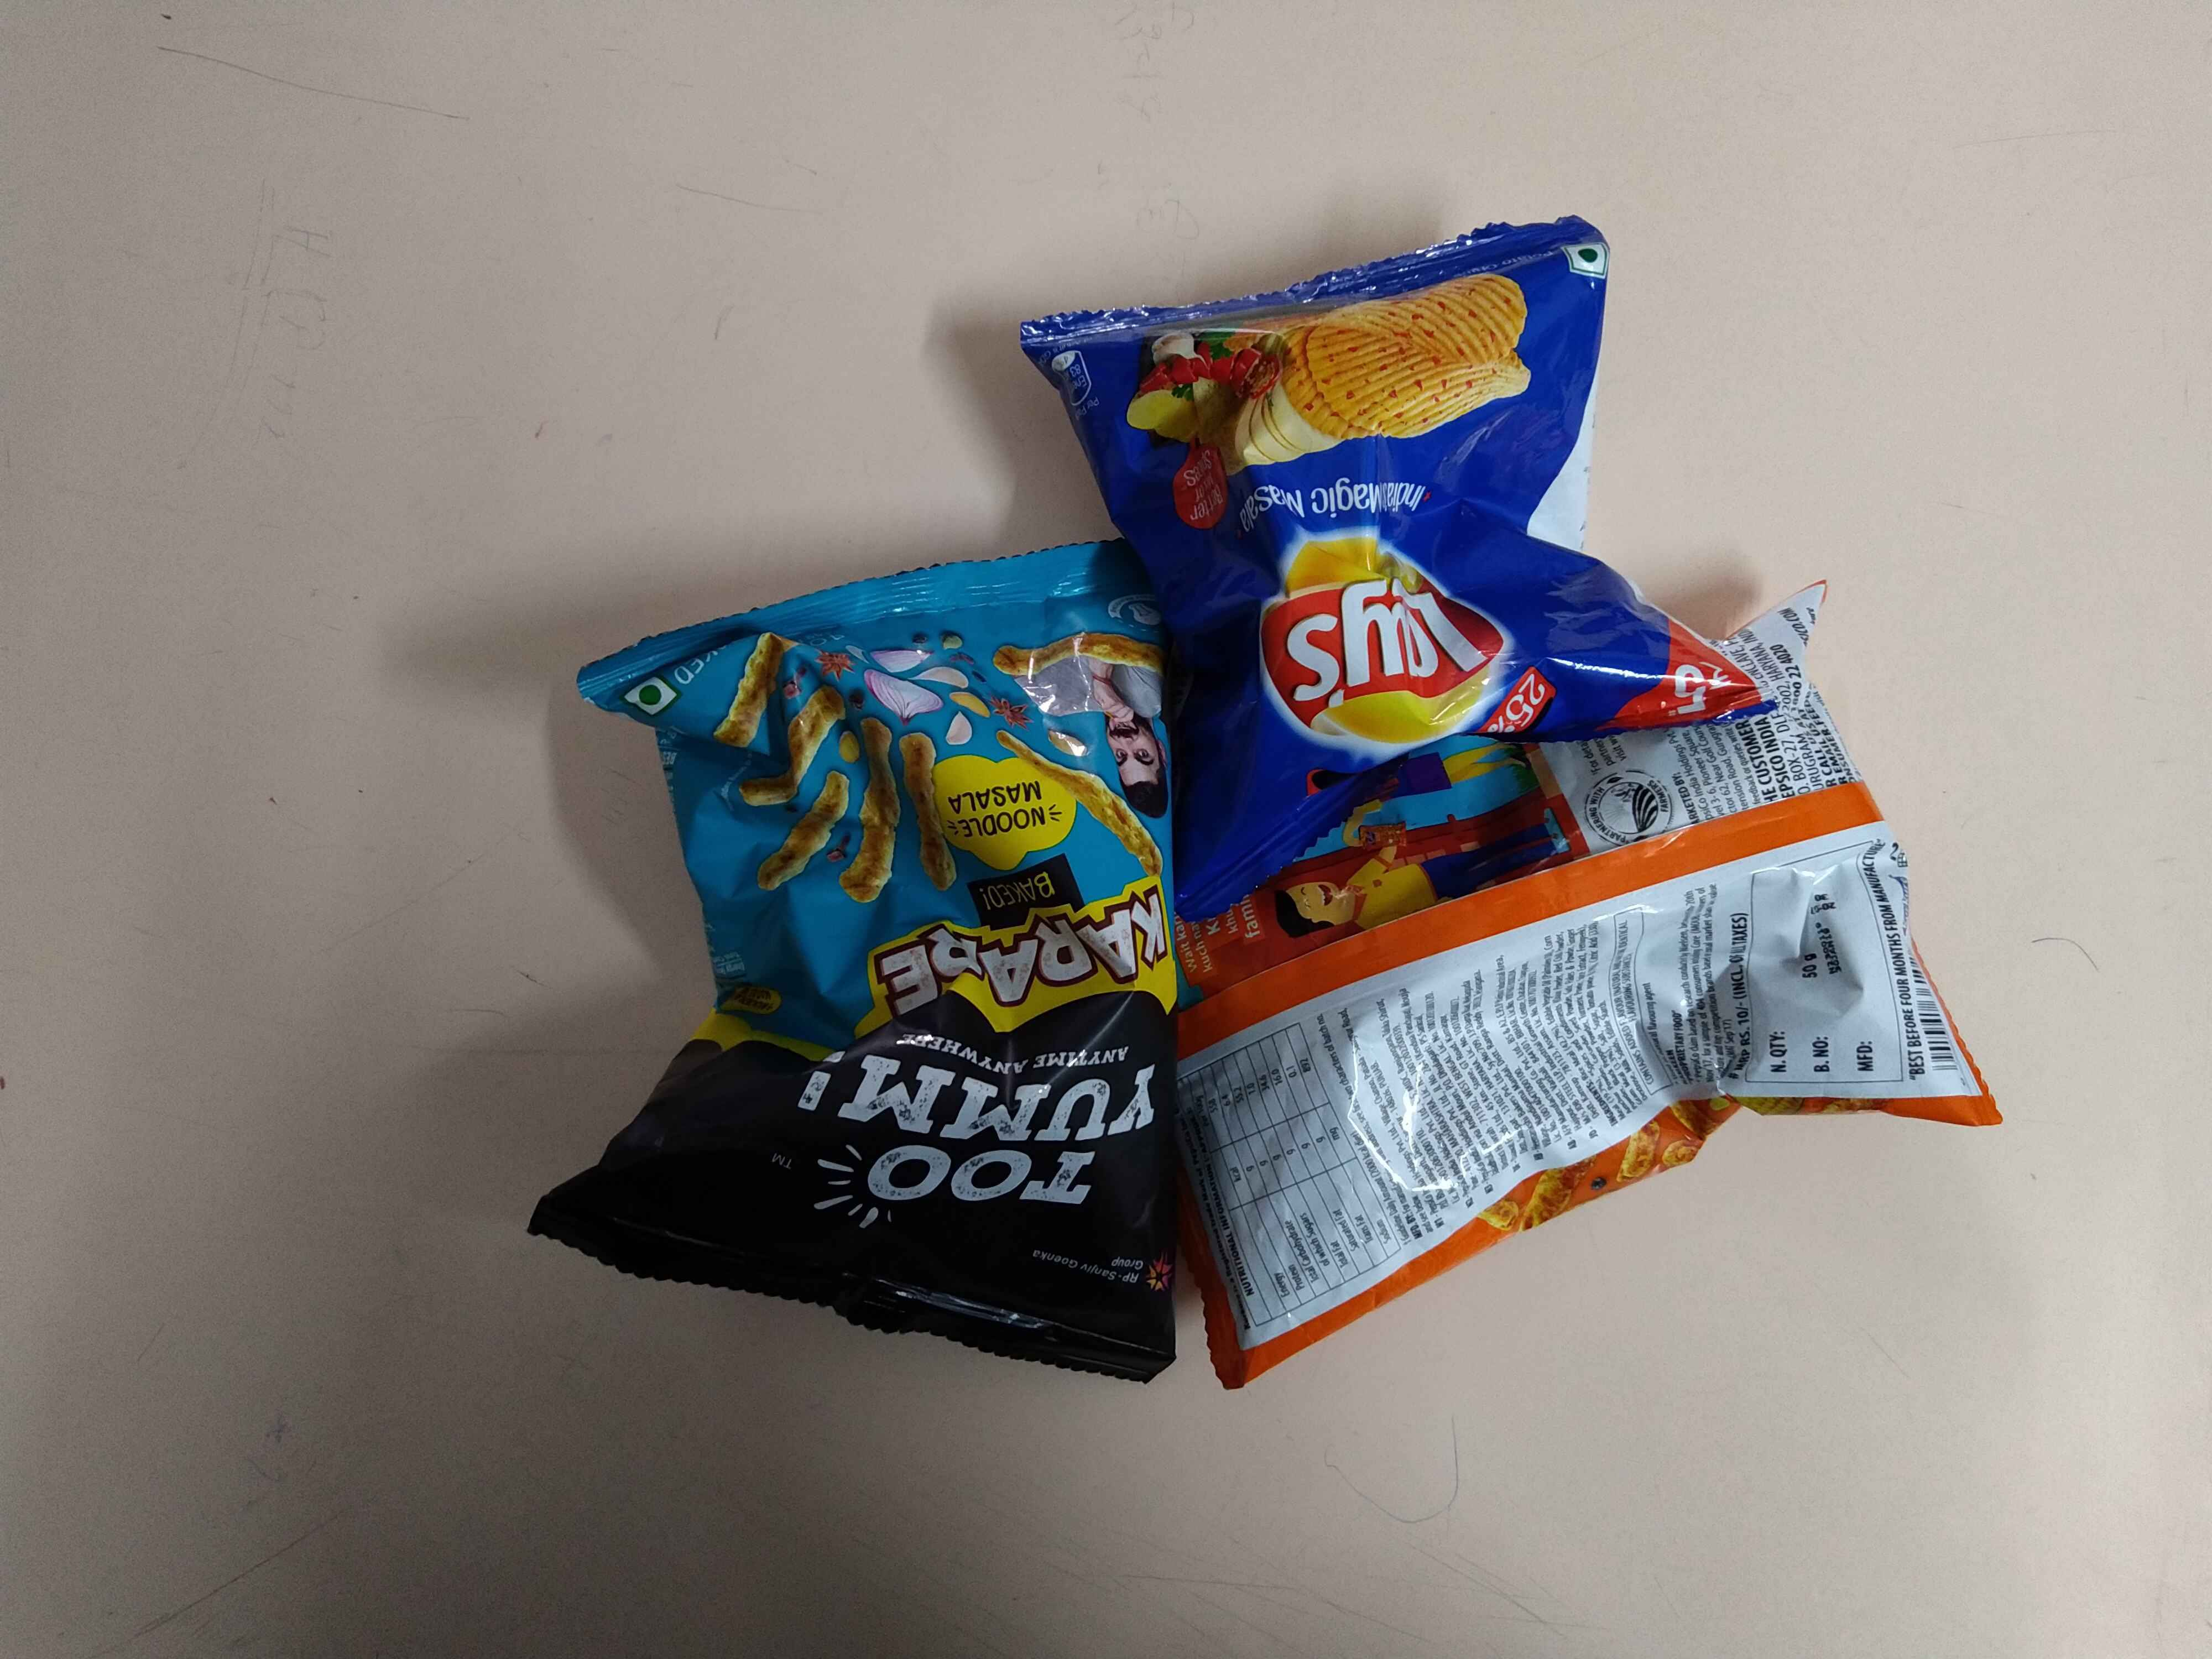Lays: (1221, 532, 1559, 741)
tooyumm: (782, 1033, 1167, 1246)
